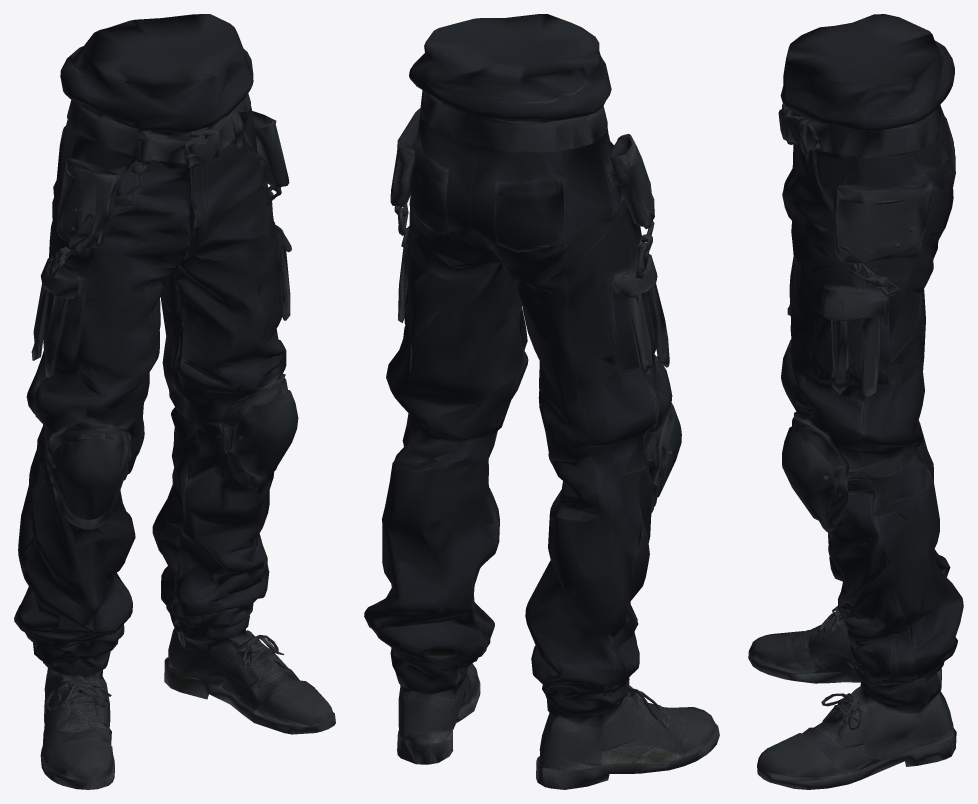
Rendered from legs_02.glb.
3 renders of one model, left to right at view 1: azimuth 30°, elevation 25°; view 2: azimuth 150°, elevation 25°; view 3: azimuth 270°, elevation 25°, orthographic. The views are drawn at different scales.
Parts seen in each view (by area): view 1: mesh_node; view 2: mesh_node; view 3: mesh_node.
Boxes of the visible parts, x1,y1,x2,y2 form: mesh_node: (14,14,335,789); mesh_node: (364,14,719,789); mesh_node: (748,14,963,789).
Bounding box in the file's own units: 0.4716 × 1.1 × 0.3159.
1 material, 1 textured.
